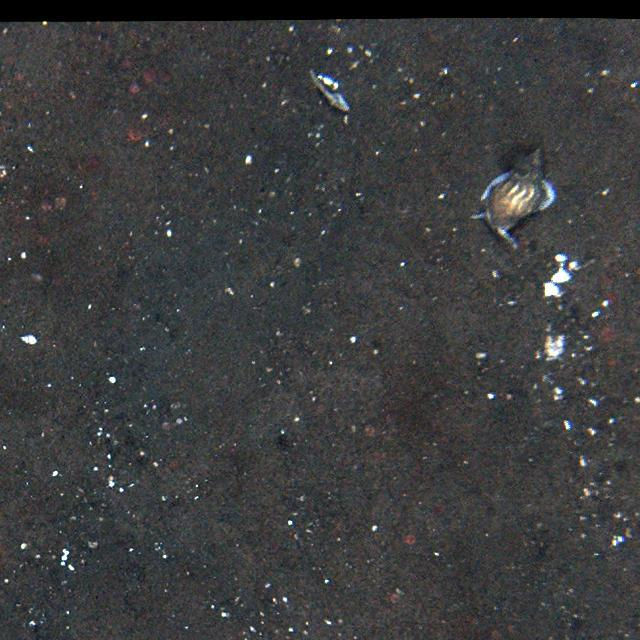whelk: (484, 146, 544, 234)
